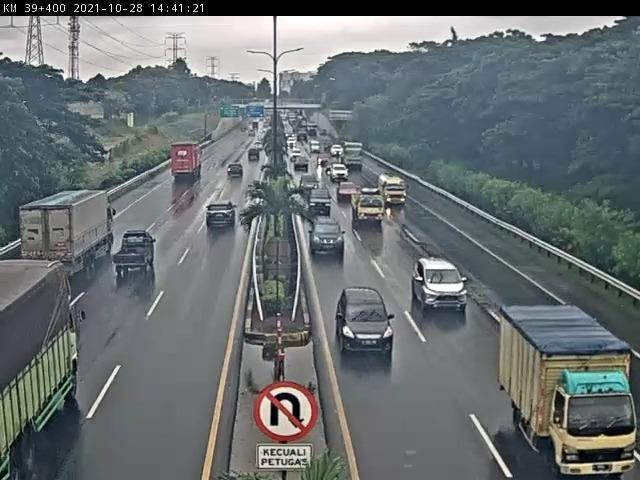car: (336, 289, 395, 358), (413, 257, 470, 313), (112, 230, 156, 274), (309, 217, 346, 258), (207, 201, 237, 230), (306, 187, 333, 216)
truck: (498, 305, 640, 480), (19, 190, 117, 276), (351, 188, 387, 226)
